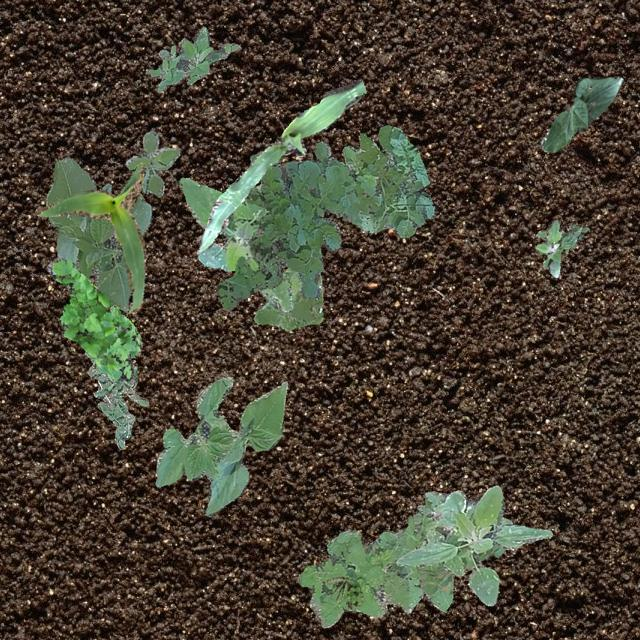crop: (197, 78, 366, 250), (394, 484, 552, 604), (154, 376, 286, 516), (34, 162, 146, 312), (46, 157, 150, 310), (538, 75, 622, 152)
weed: (216, 123, 434, 310), (298, 489, 511, 626), (178, 176, 292, 312), (46, 258, 140, 380), (84, 351, 148, 448), (148, 26, 240, 91), (252, 266, 322, 330), (125, 130, 178, 196), (534, 218, 588, 276), (327, 576, 362, 610)
